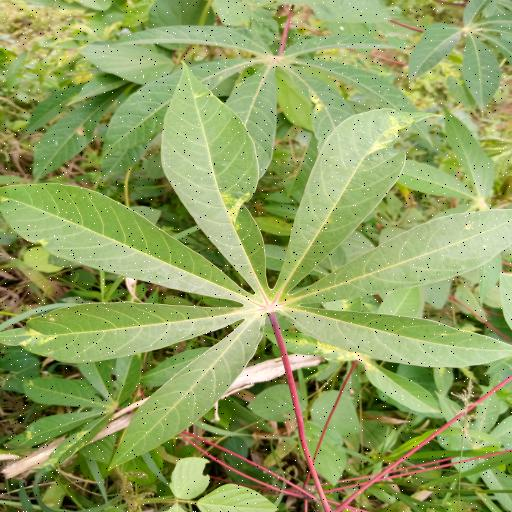Cassava_Mosaic: (0, 61, 512, 470), (100, 26, 420, 200), (23, 344, 154, 477)
